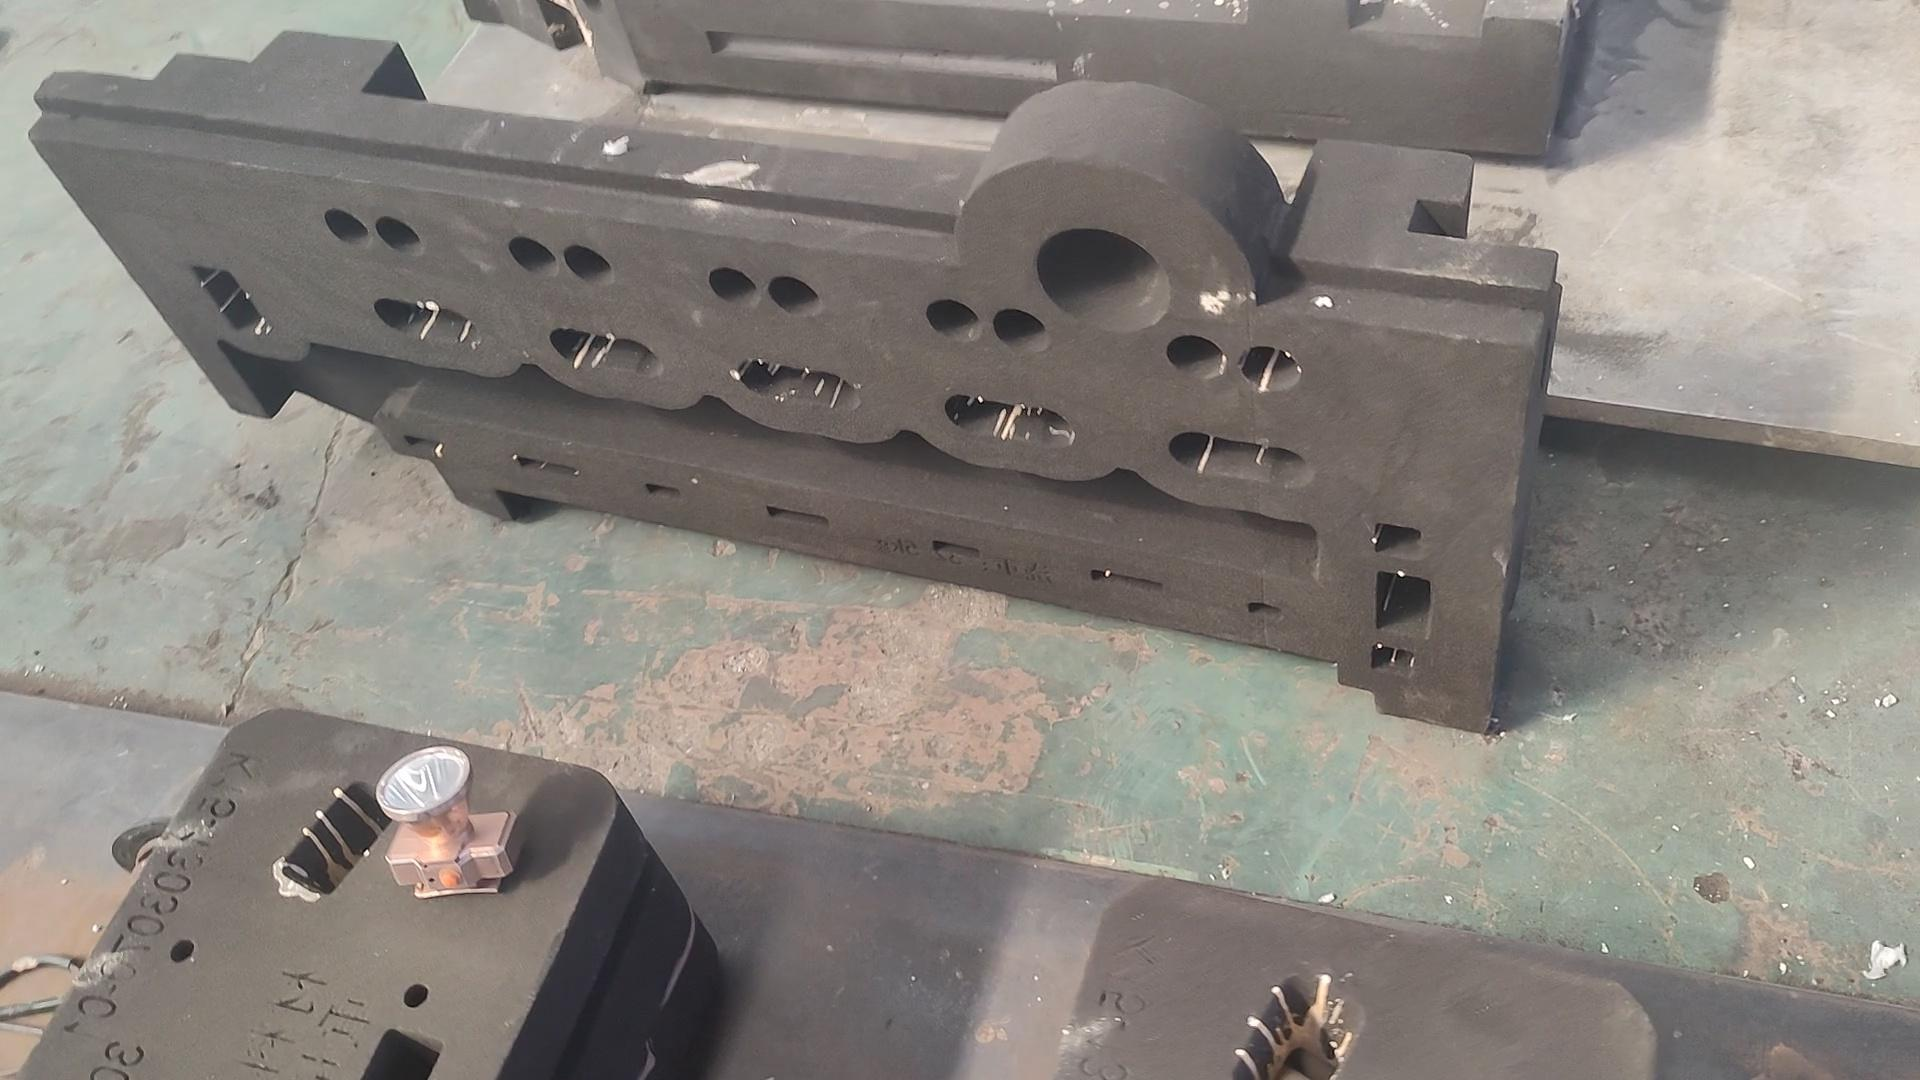pouring hole: (1036, 228, 1170, 334)
